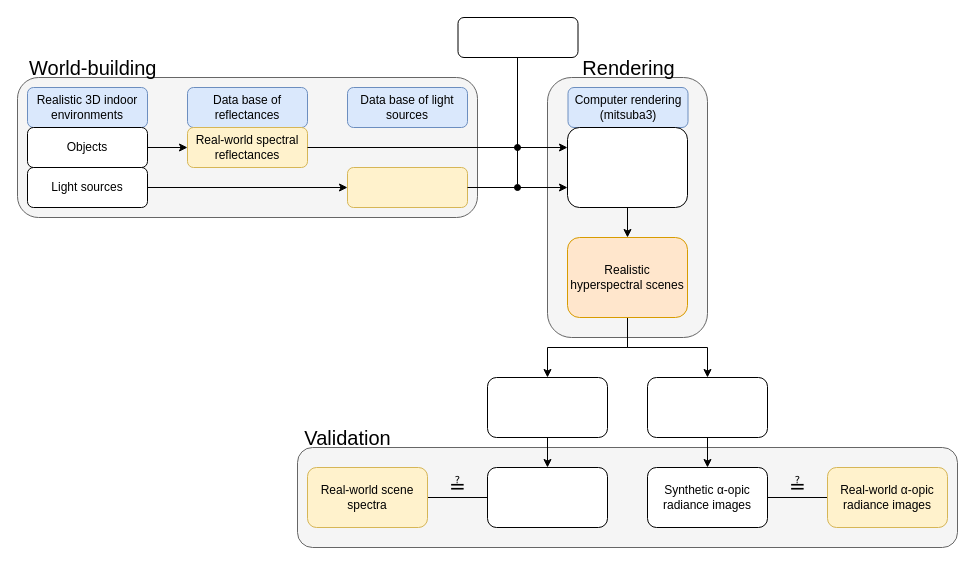
The diagram is 975 pixels wide and 565 high, and some of its shapes have lost their labels. The shapes that lost their labels are listed below. From the top down, each one's centre as x and y in pixels, then its label:
At (x=517, y=37): "Combinatorial expansion".
At (x=407, y=187): "Real-world spectral power distributions".
At (x=627, y=167): "Scene in mitsuba3".
At (x=547, y=407): "Irradiance (spatial averaged scenes)".
At (x=707, y=407): "Radiance images".
At (x=547, y=497): "Synthetic irradiance spectra".
